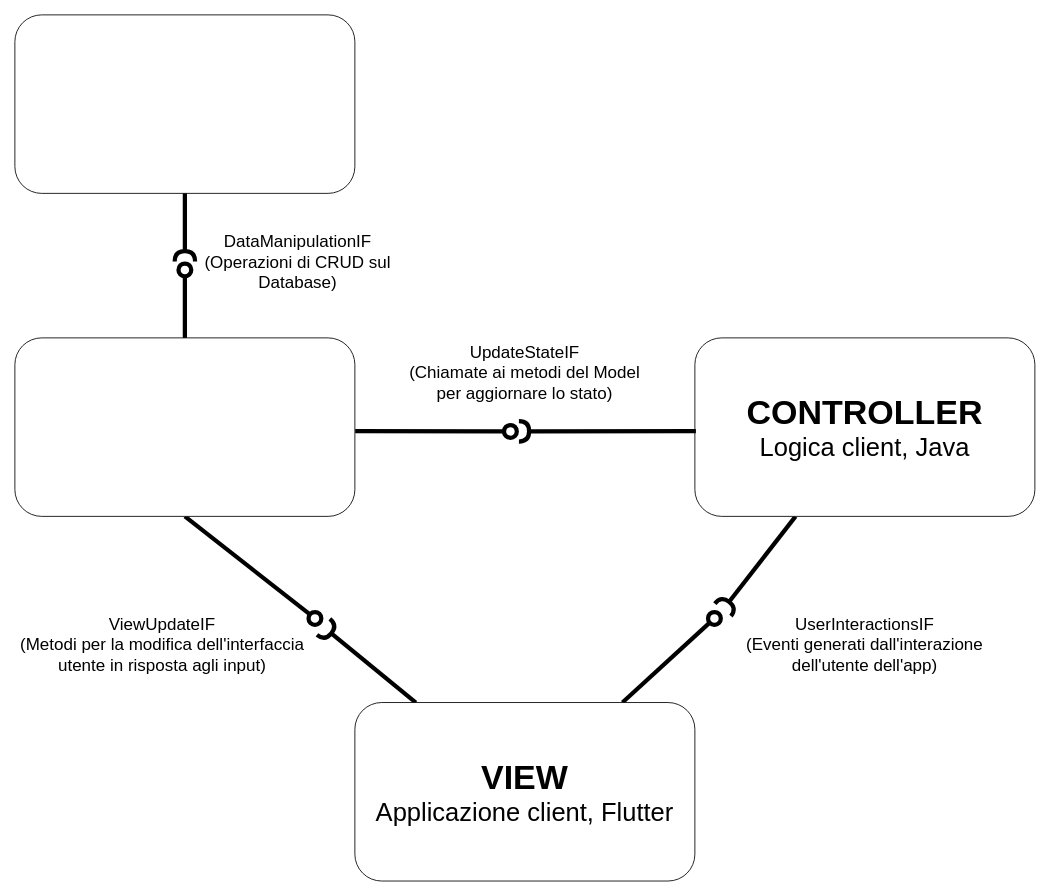
Some shapes in this 1050 by 896 pixel diagram are drawn without their labels. The shapes that lost their labels are listed below. From the top down, each one's centre as x and y in pixels, then its label:
point 184,103: DATABASE SQL
point 184,426: MODEL Springboot, server Java
